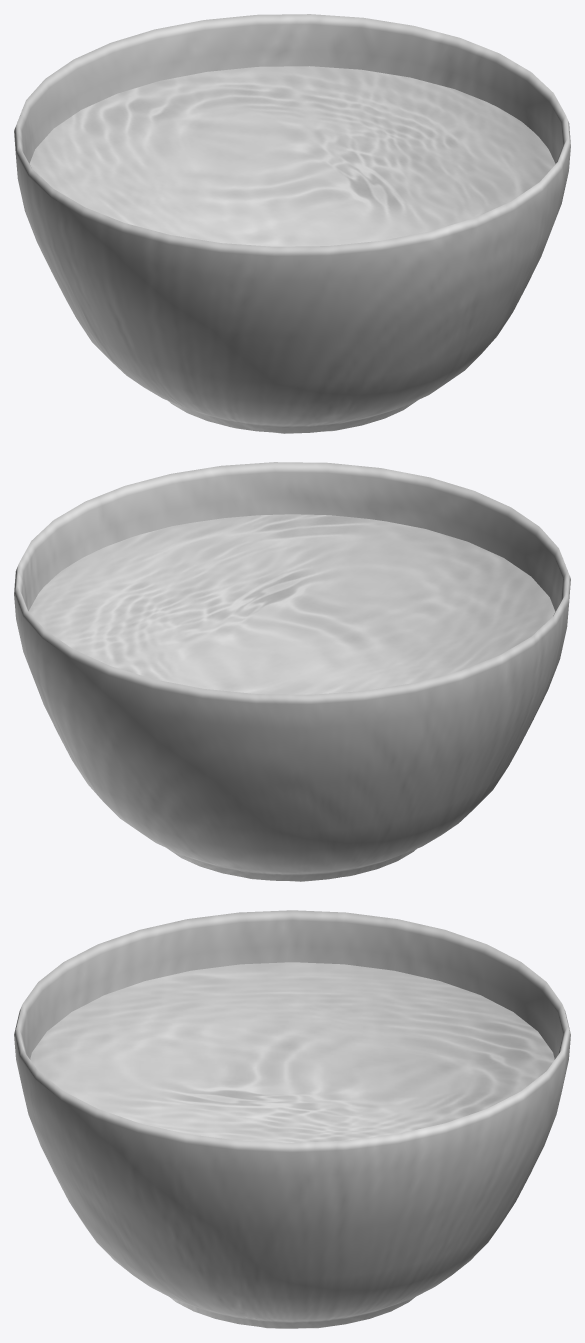
The model's file is waterBowl.fbx.
3 views of the same model, one above another, from view 1: azimuth 30°, elevation 25°; view 2: azimuth 150°, elevation 25°; view 3: azimuth 270°, elevation 25° (orthographic).
Visible parts, largest first — view 1: Bowl, water; view 2: Bowl, water; view 3: Bowl, water.
Boxes of the visible parts, left/top/right/bottom form: Bowl: left=14, top=14, right=570, bottom=433; water: left=29, top=66, right=555, bottom=246; Bowl: left=14, top=462, right=570, bottom=881; water: left=29, top=514, right=555, bottom=694; Bowl: left=14, top=910, right=570, bottom=1328; water: left=30, top=962, right=554, bottom=1142.
Size of the model in its own units: 12.28 by 6.09 by 12.28.
Materials: 2 (2 with a texture image).
